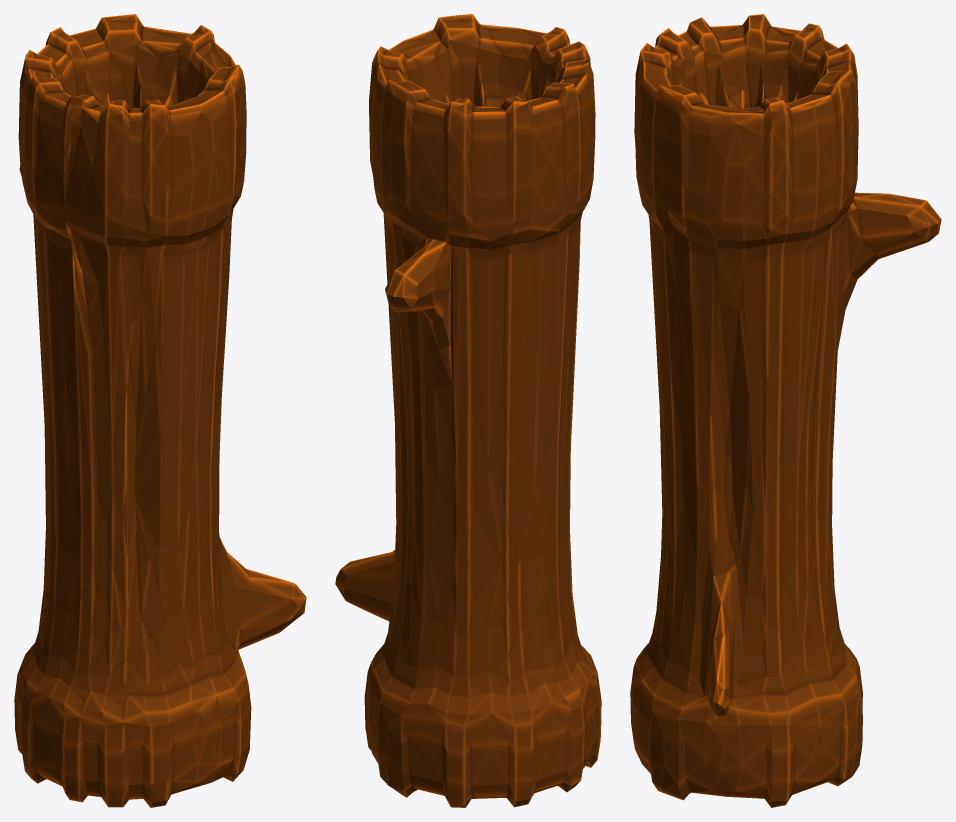
File: woodfinal.fbx
3 renders of one model, left to right at view 1: azimuth 30°, elevation 25°; view 2: azimuth 150°, elevation 25°; view 3: azimuth 270°, elevation 25°, orthographic.
Parts seen in each view (by area): view 1: treelog2.002; view 2: treelog2.002; view 3: treelog2.002.
Boxes of the visible parts, x1,y1,x2,y2 form: treelog2.002: (14, 14, 306, 807); treelog2.002: (335, 14, 601, 807); treelog2.002: (630, 14, 941, 807).
Size of the model in its own units: 313 by 803 by 321.
Materials: 1 (1 with a texture image).
